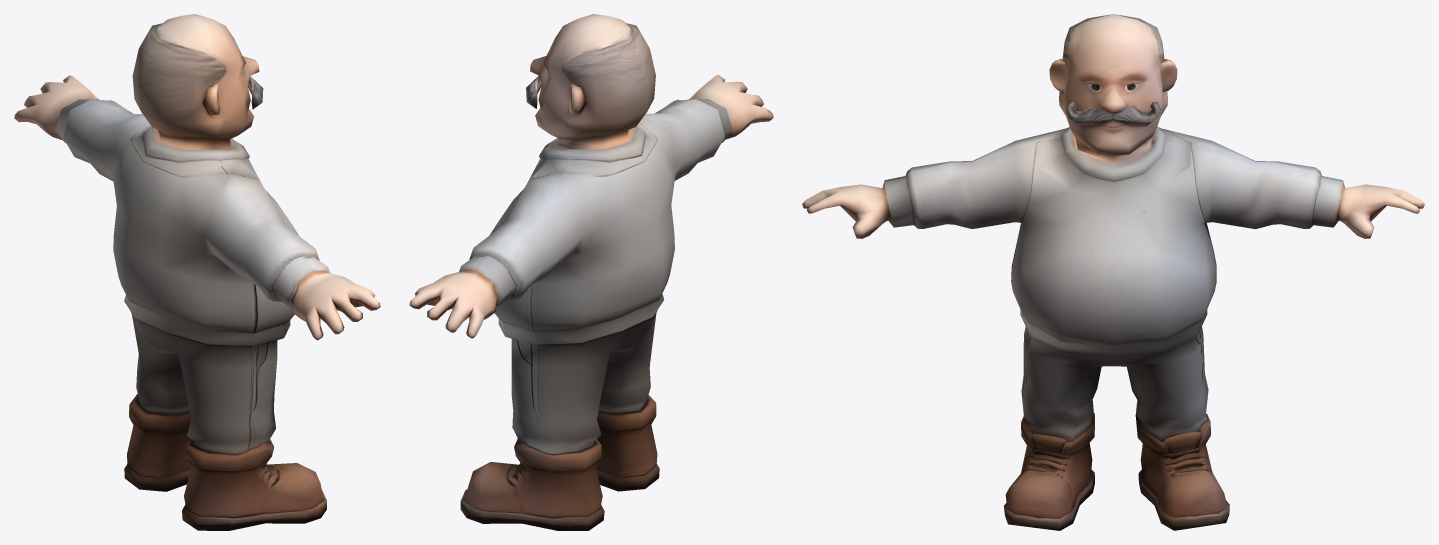
The picture shows the model from 3 angles, left to right: view 1: azimuth 30°, elevation 25°; view 2: azimuth 150°, elevation 25°; view 3: azimuth 270°, elevation 25°; orthographic projection.
Visible parts, largest first — view 1: tripo_node_7caa0e54-cd4e-4461-8b50-f477728fd7f9; view 2: tripo_node_7caa0e54-cd4e-4461-8b50-f477728fd7f9; view 3: tripo_node_7caa0e54-cd4e-4461-8b50-f477728fd7f9.
Boxes of the visible parts, box(x1,y1,x2,y2) form: tripo_node_7caa0e54-cd4e-4461-8b50-f477728fd7f9: box(14, 14, 380, 530); tripo_node_7caa0e54-cd4e-4461-8b50-f477728fd7f9: box(409, 14, 773, 530); tripo_node_7caa0e54-cd4e-4461-8b50-f477728fd7f9: box(802, 14, 1424, 530).
Size of the model in its own units: 0.3052 by 0.8354 by 0.9995.
1 material, 1 textured.
